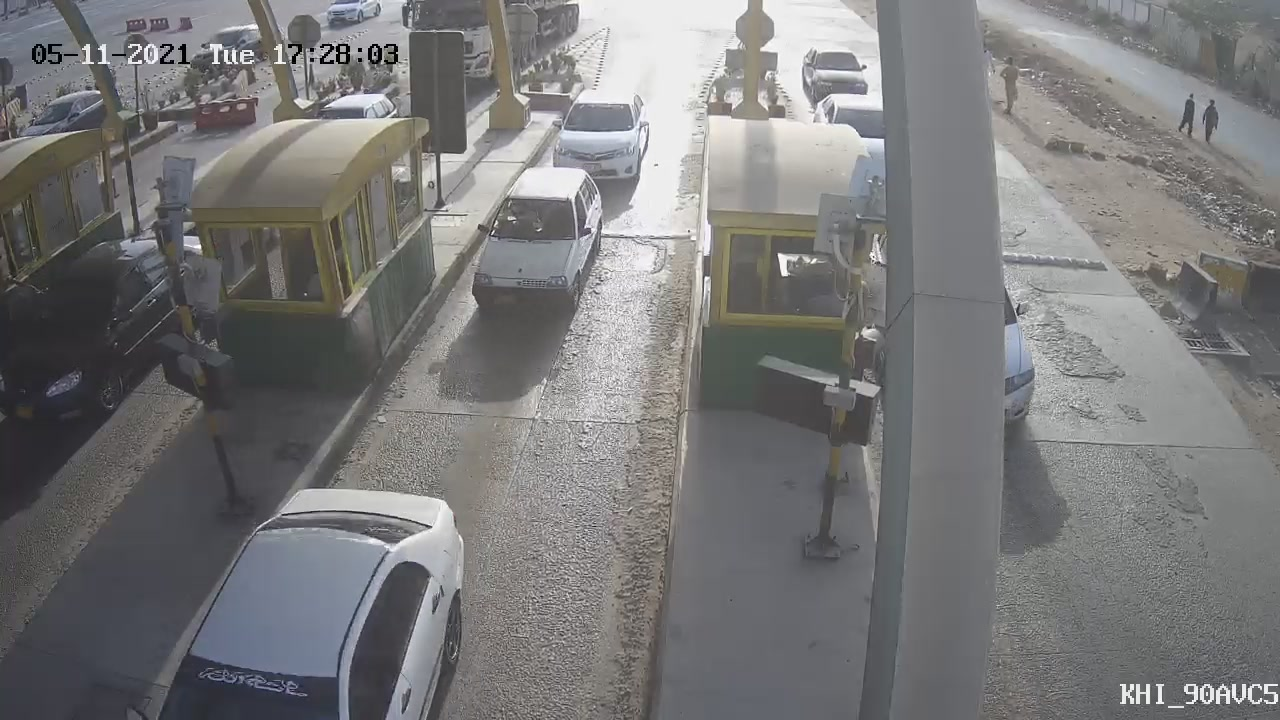F1: (456, 149, 620, 330), (537, 73, 670, 201)
